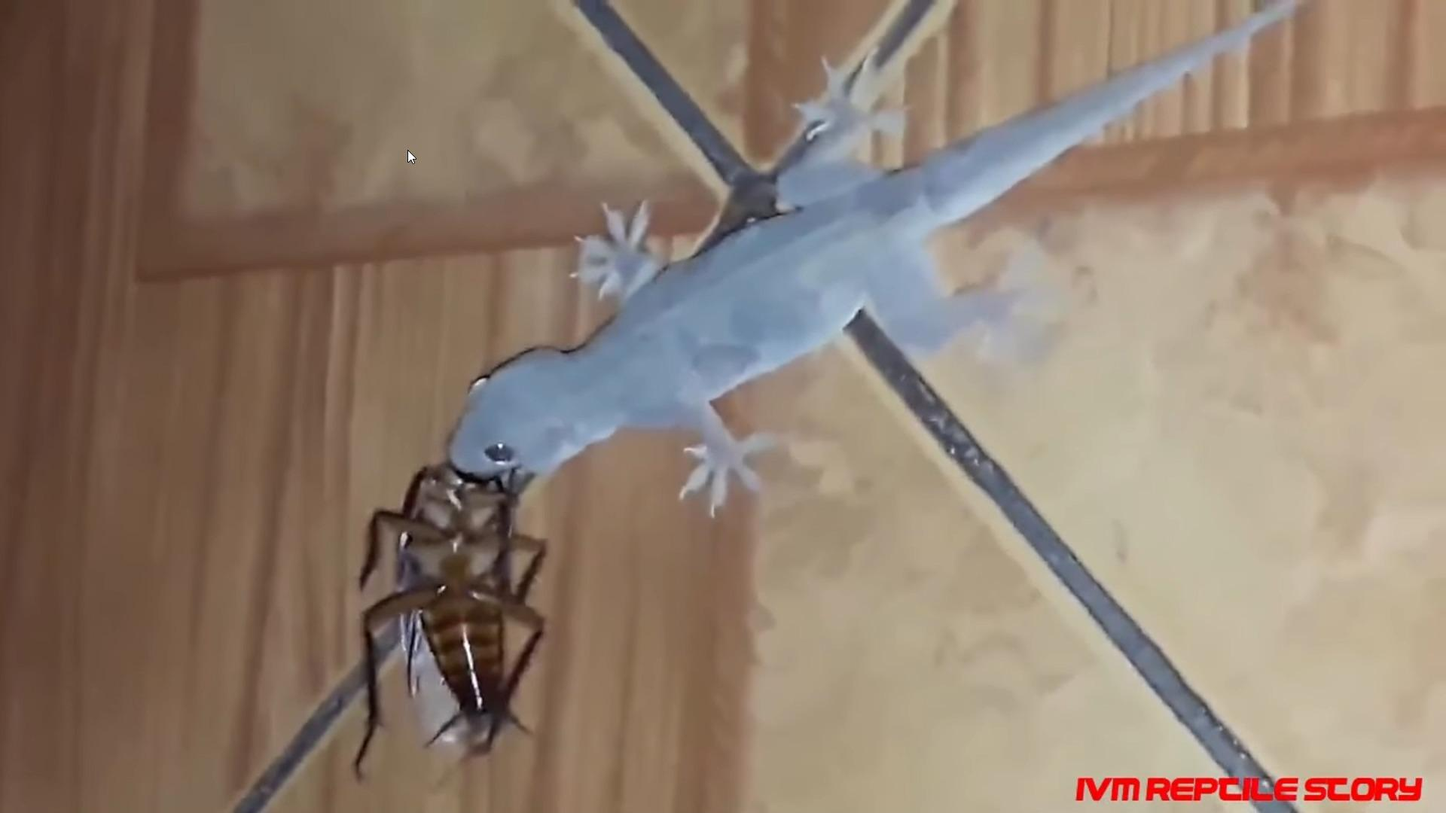cockroach: (350, 486, 571, 753)
lizard: (457, 45, 1101, 512)
